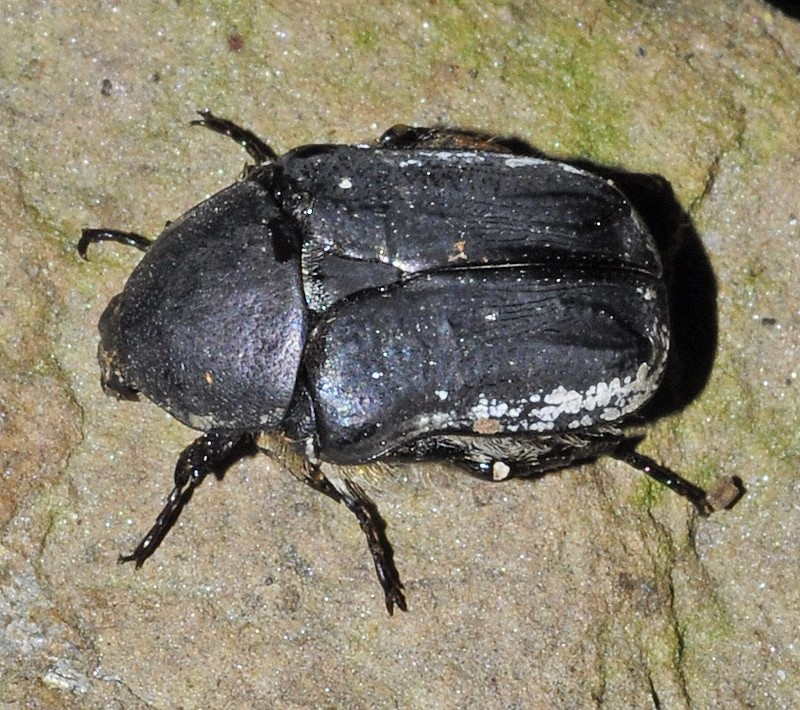Protaetia_oblonga: (64, 95, 719, 616)
